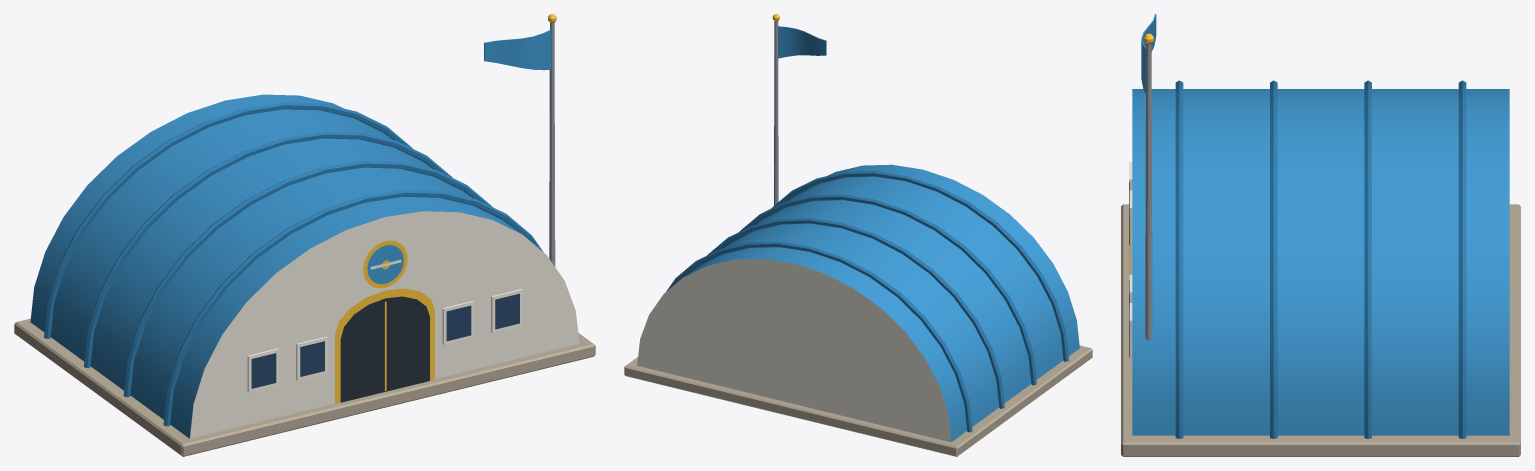
3 renders of one model, left to right at view 1: azimuth 30°, elevation 25°; view 2: azimuth 150°, elevation 25°; view 3: azimuth 270°, elevation 25°, orthographic. The views are drawn at different scales.
Visible parts, largest first — view 1: hq; view 2: hq; view 3: hq.
Part boxes in pixels (bbox=[...]): hq: bbox=[14, 14, 595, 456]; hq: bbox=[624, 14, 1092, 456]; hq: bbox=[1121, 14, 1520, 456].
Bounding box in the file's own units: 20.4 × 16.1 × 14.4.
